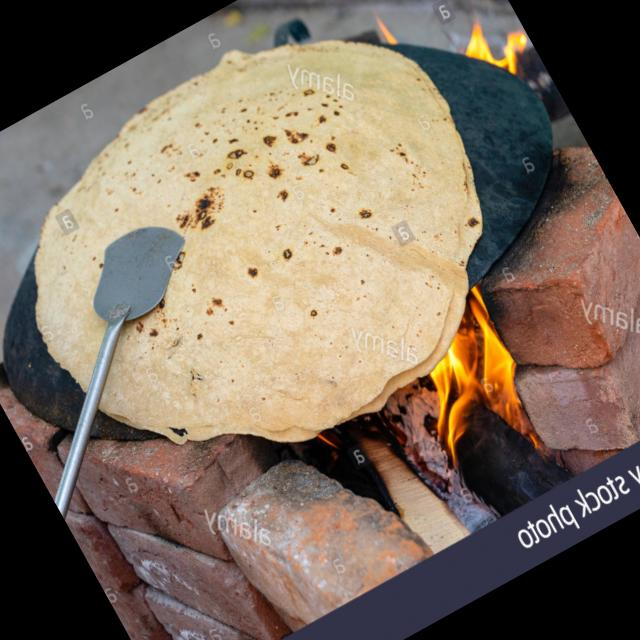roti: (33, 41, 489, 460)
